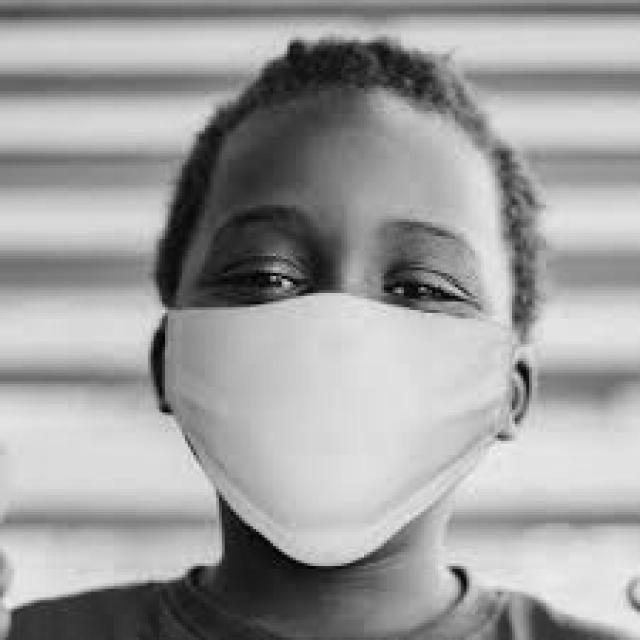fake: (156, 294, 529, 582)
real: (175, 85, 513, 575)
